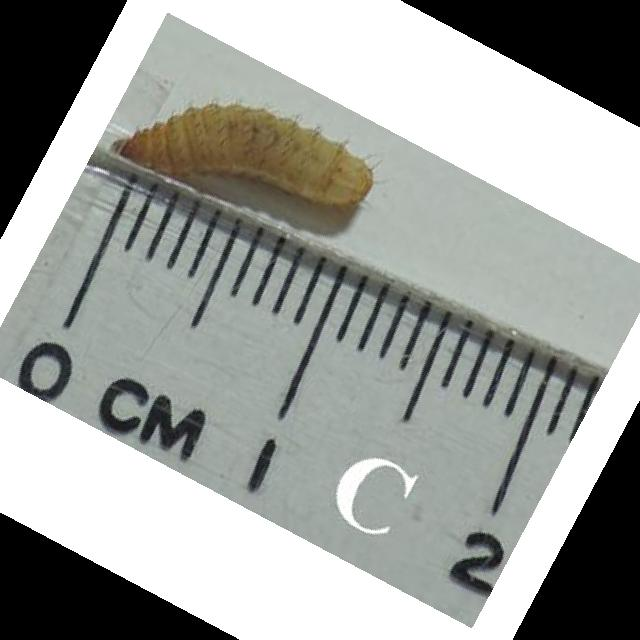Maggot: (118, 100, 374, 207)
